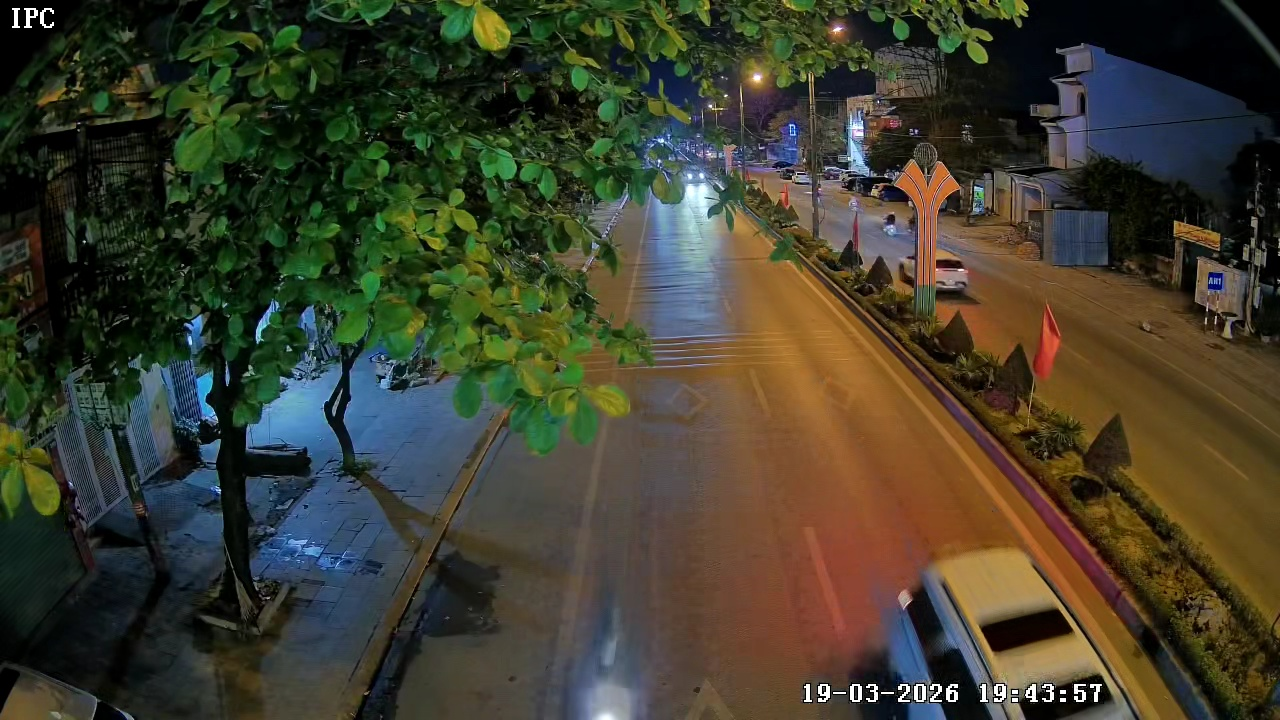car: (841, 555, 1125, 719)
